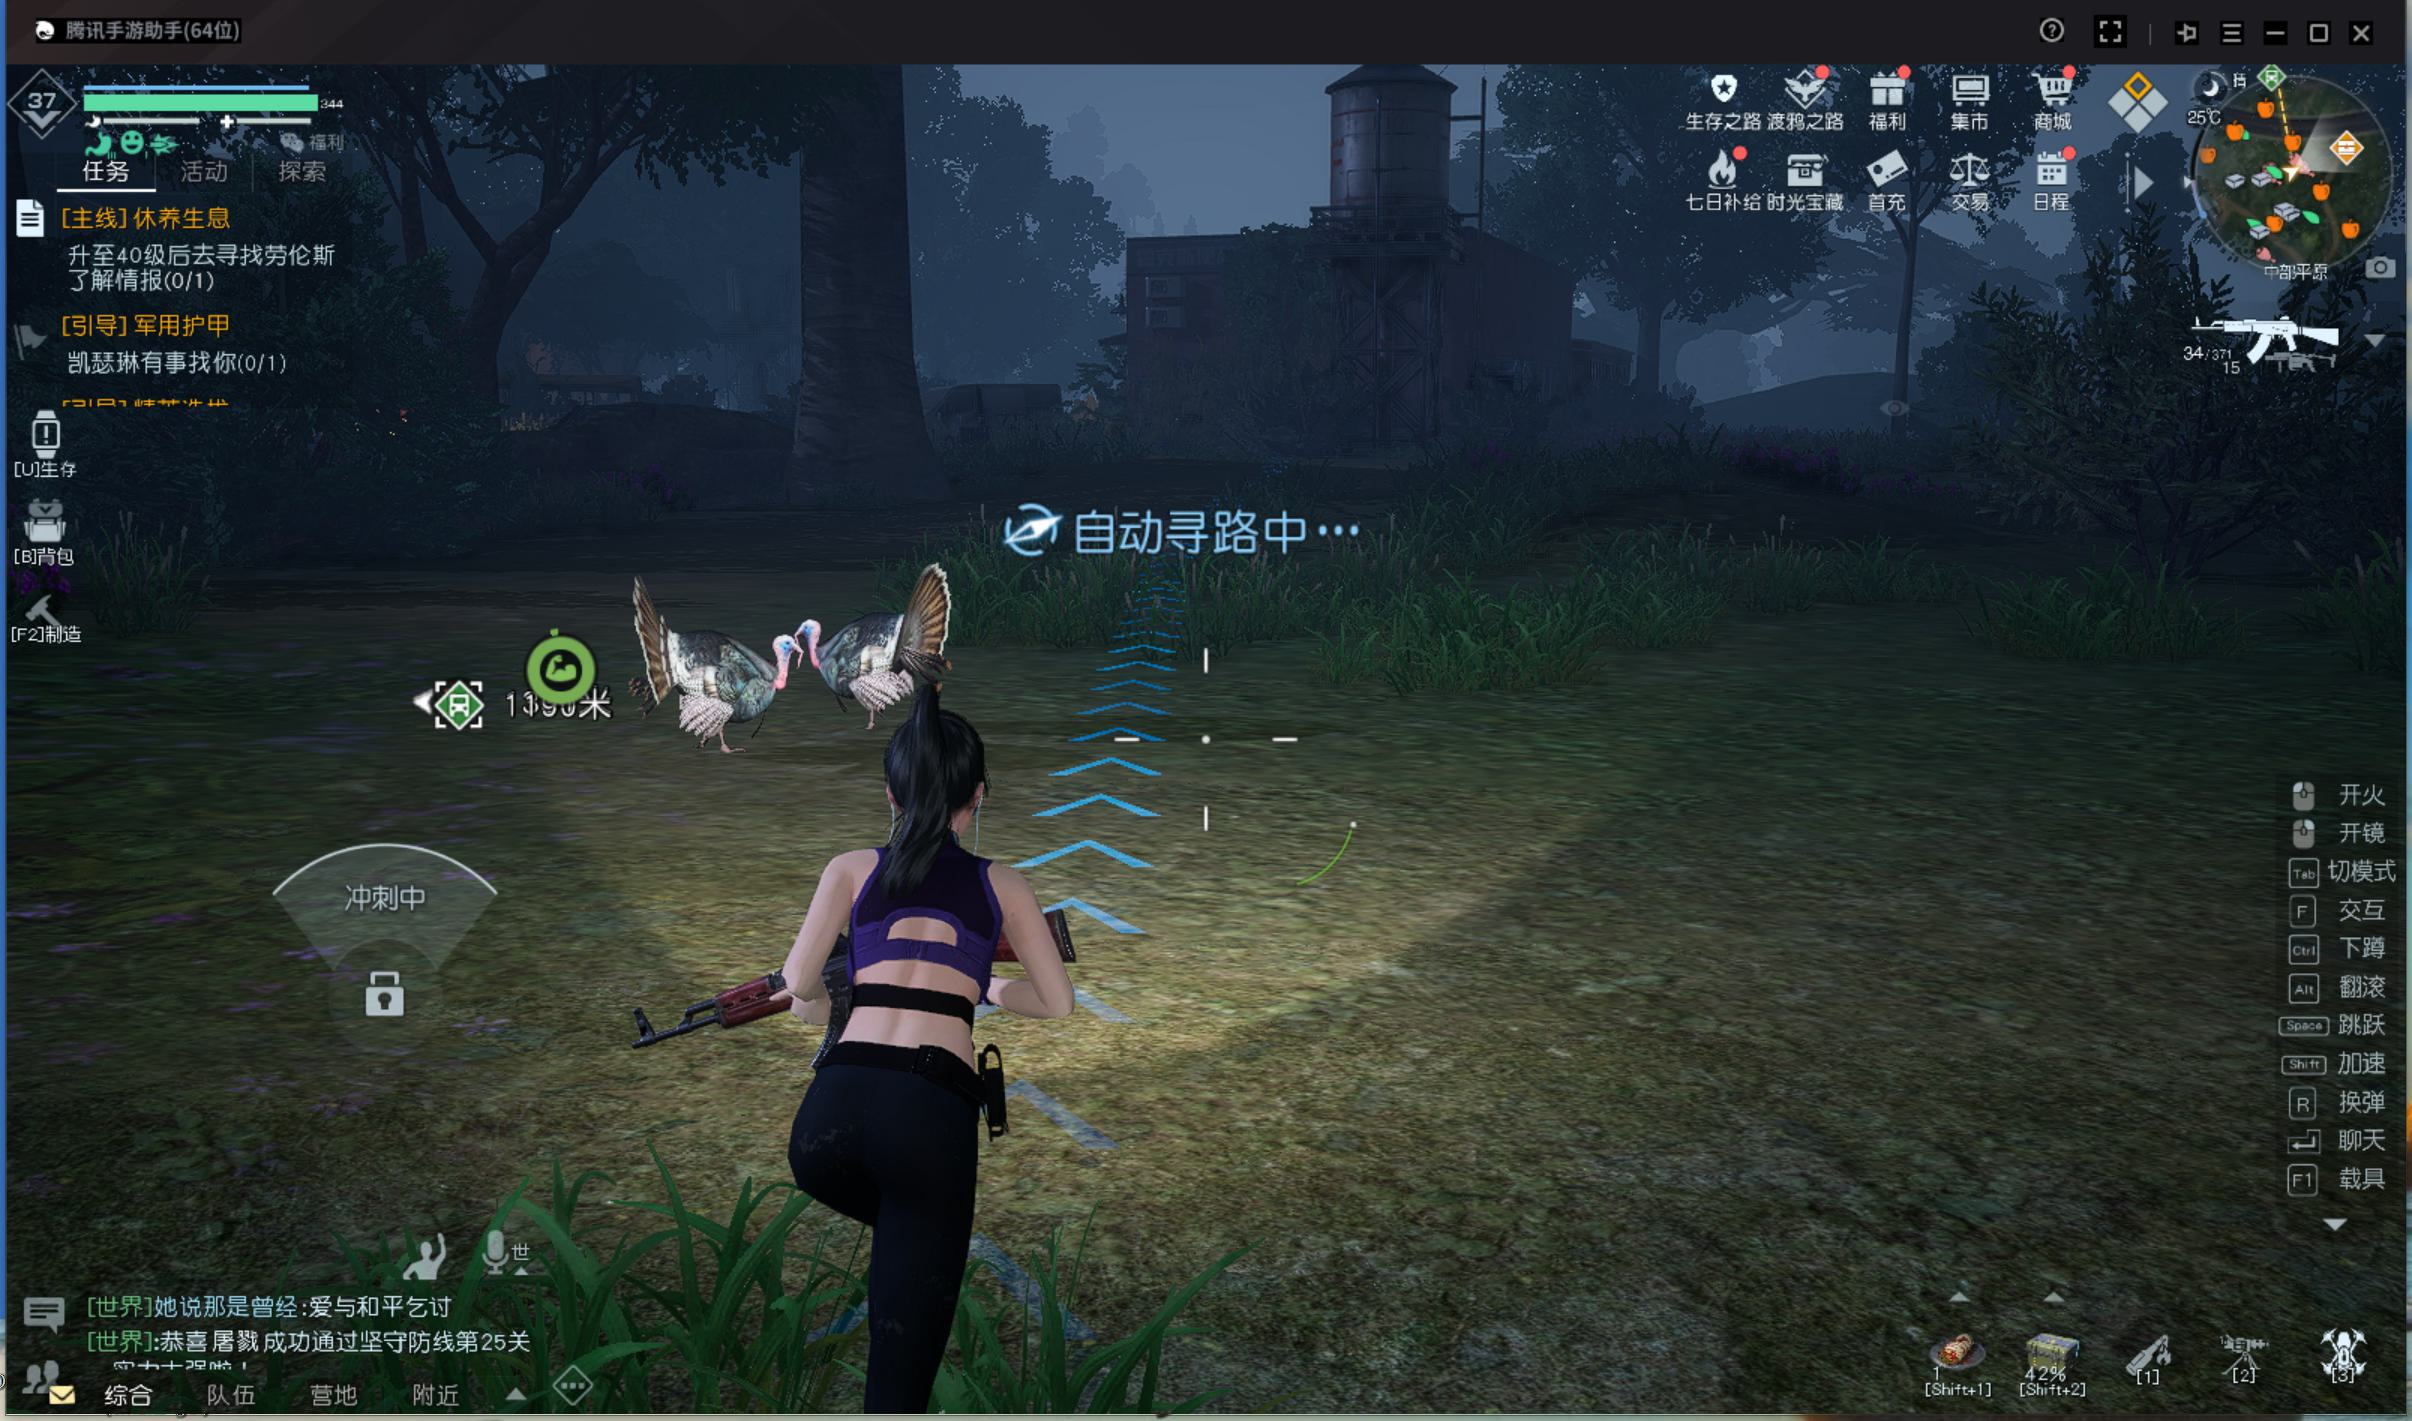tree: (785, 125, 956, 523), (1636, 294, 1668, 413)
